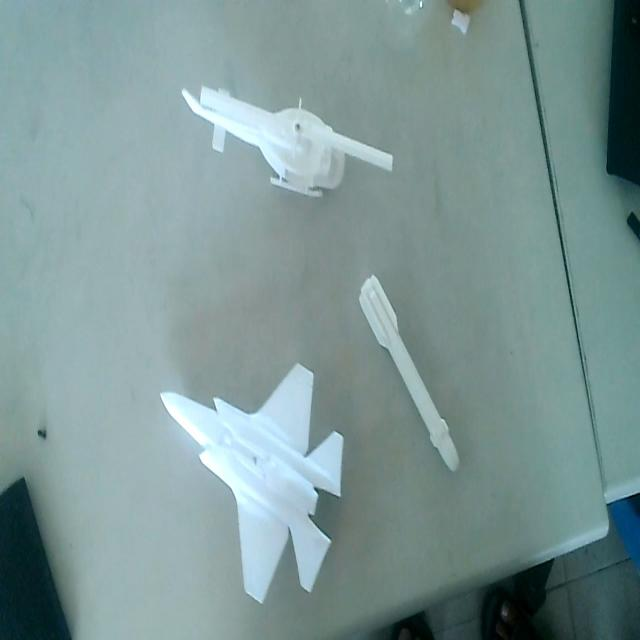Helicopter: (180, 68, 396, 205)
Jet: (157, 361, 345, 611)
Rocket: (358, 268, 463, 478)
